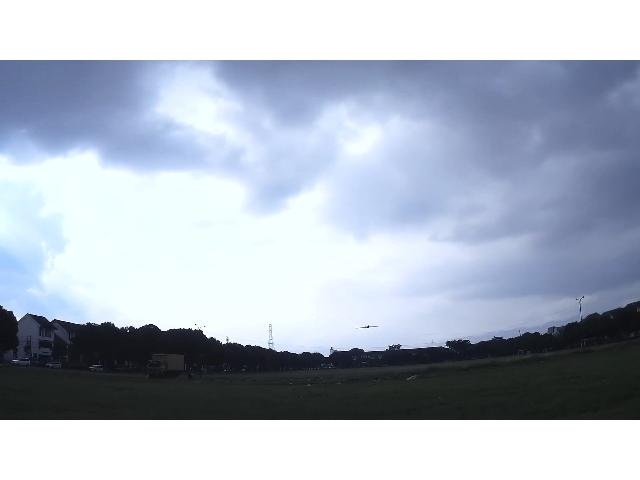Anti-Drone: (355, 326, 379, 328)
